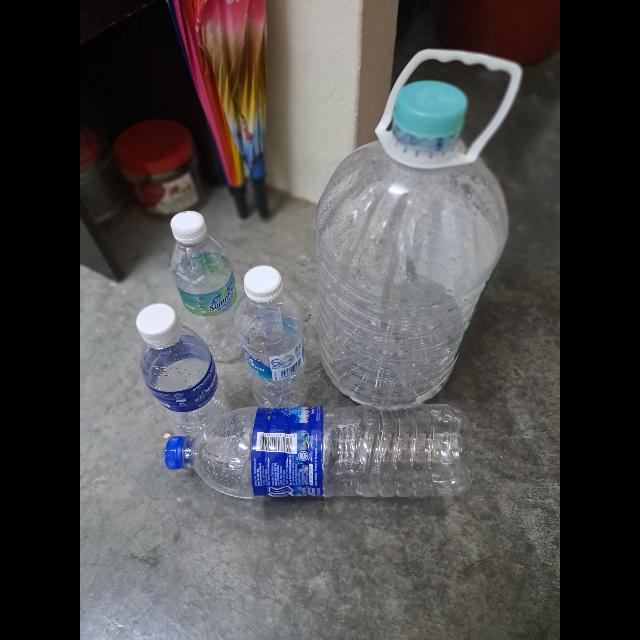garrafa plástica: (315, 134, 509, 408), (188, 406, 472, 499), (137, 328, 230, 437), (172, 236, 242, 360), (236, 289, 310, 405)
tampa plástica: (393, 80, 467, 138), (136, 302, 180, 346), (243, 265, 281, 299), (172, 211, 206, 241), (165, 436, 187, 469)
